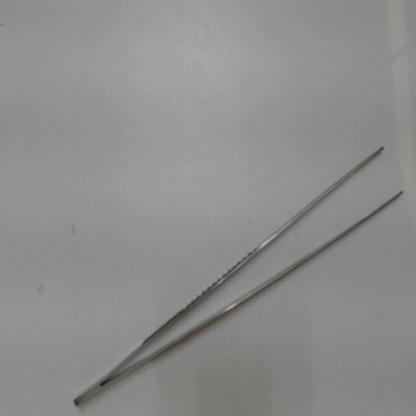DeBakey Dissector: (60, 126, 414, 411)
